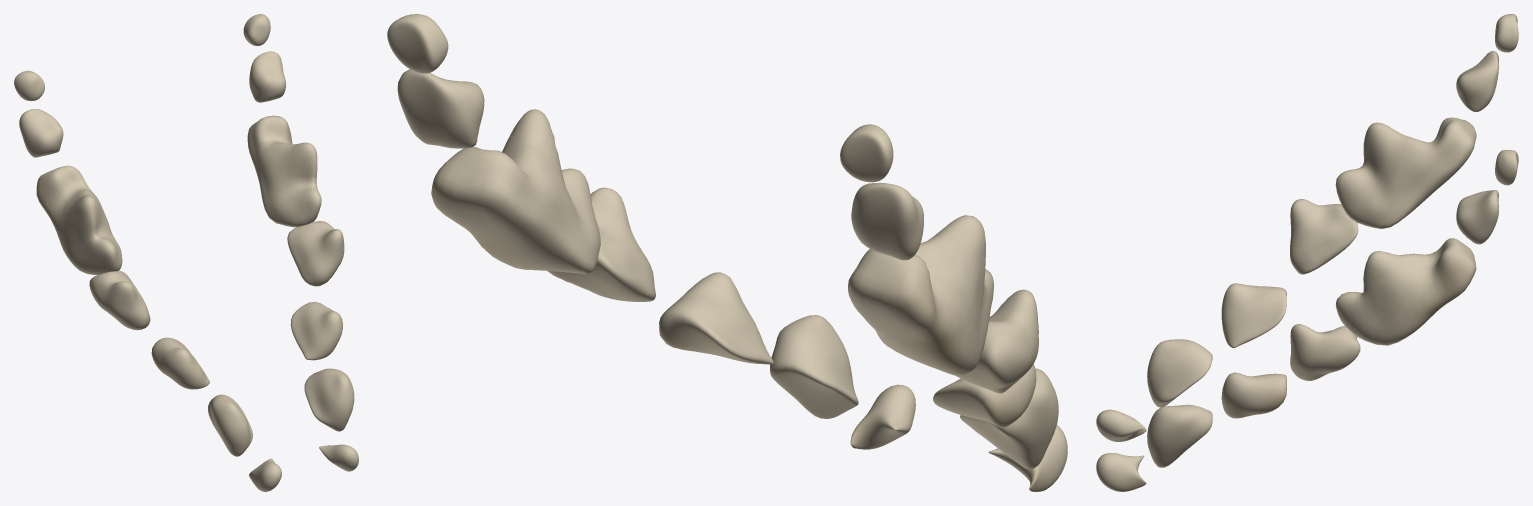
The model's file is Teeth Lower.fbx.
The picture shows the model from 3 angles, left to right: view 1: azimuth 30°, elevation 25°; view 2: azimuth 150°, elevation 25°; view 3: azimuth 270°, elevation 25°; orthographic projection. The views are drawn at different scales.
Parts seen in each view (by area): view 1: Teeth Lower; view 2: Teeth Lower; view 3: Teeth Lower.
Part boxes in pixels (bbox=[...]): Teeth Lower: bbox=[14, 14, 358, 491]; Teeth Lower: bbox=[387, 14, 1067, 491]; Teeth Lower: bbox=[1096, 14, 1518, 491].
Size of the model in its own units: 11.87 by 13.86 by 13.86.
